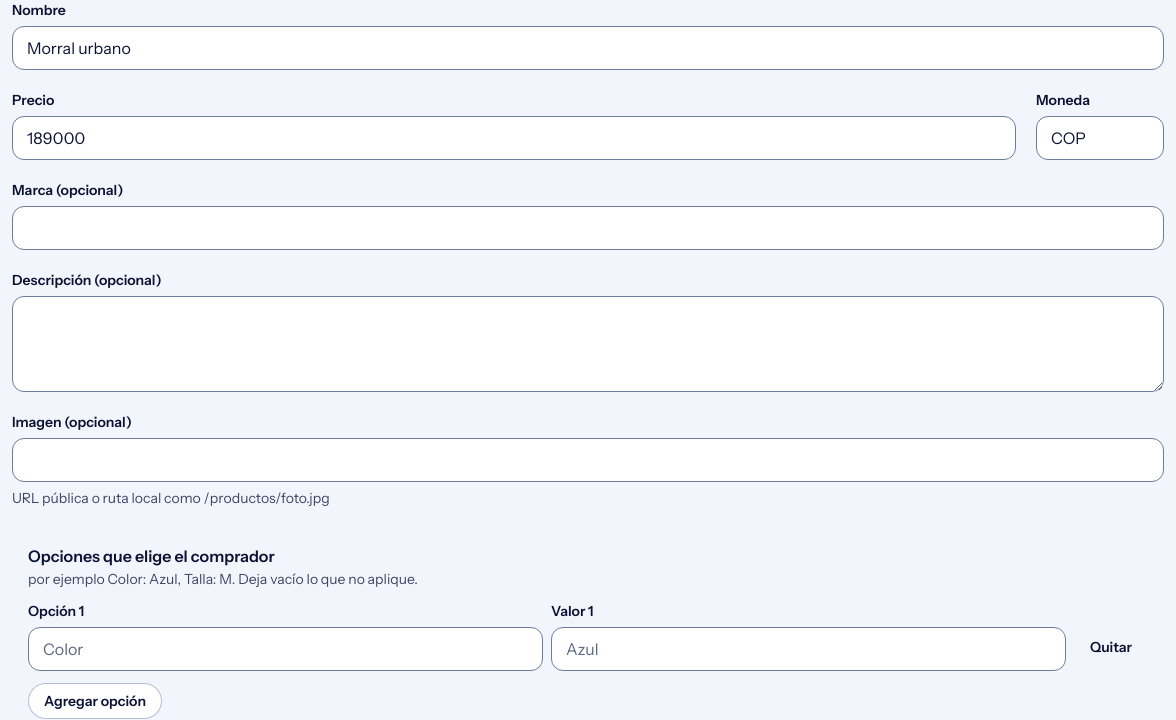
Test: variant form image field › rejects /productos/../x.jpg and does not submit
In the field labelled "Imagen (opcional)": (588, 460) 12,438 -> 1164,482, type "/productos/../x.jpg"
(page scrolled)
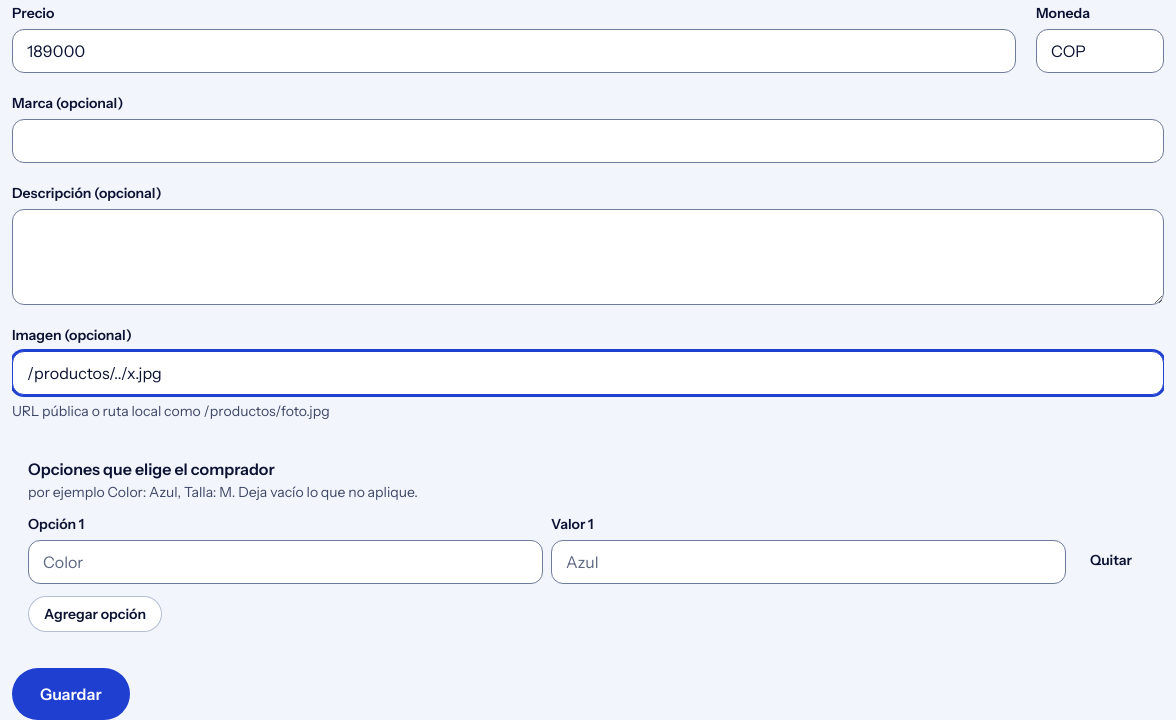
Click the button "Guardar": (71, 694) 12,668 -> 130,719
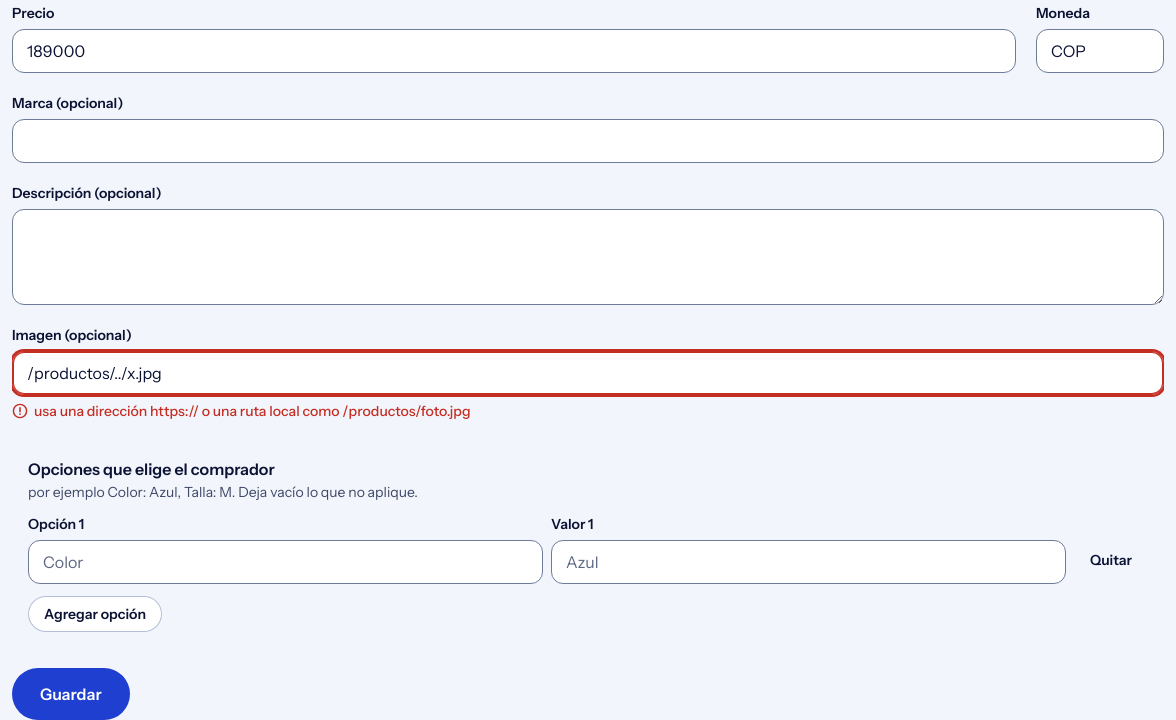
Expected: the text "usa una dirección https:// o una ruta local como /productos/foto.jpg" is shown, 34,401 -> 471,421
